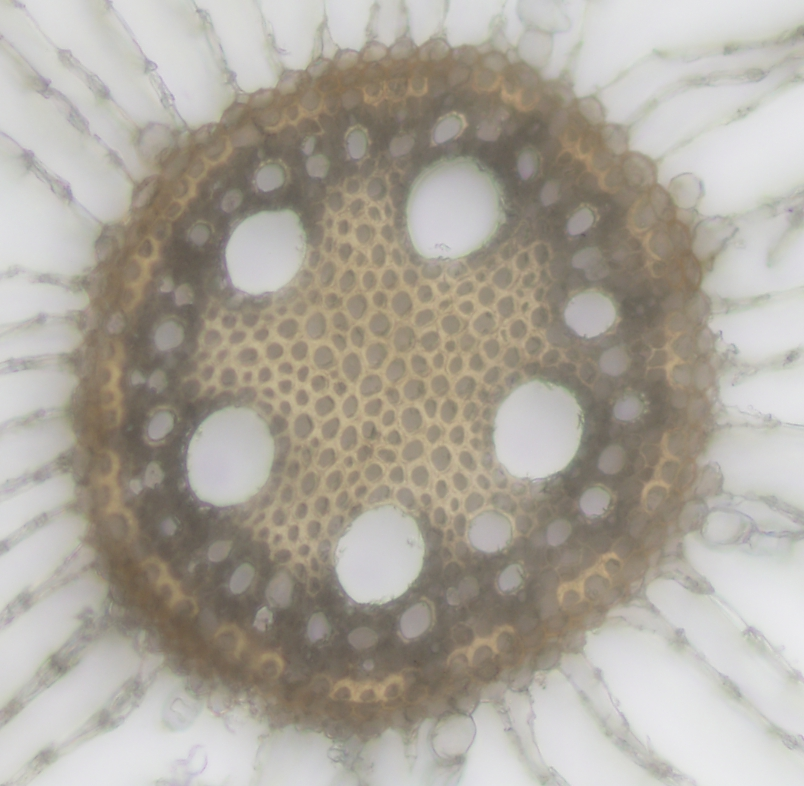lm: (406, 153, 507, 260), (335, 502, 424, 605), (493, 380, 585, 479), (186, 405, 276, 506), (224, 208, 306, 295)
